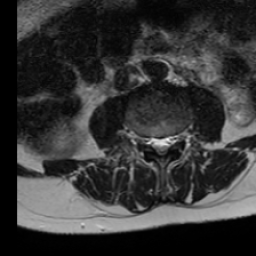CCS_normal: (158, 128, 166, 164)
LFS_normal: (174, 122, 183, 149)
LLS_normal: (166, 126, 174, 154)
RFS_normal: (141, 127, 149, 152)
RLS_normal: (149, 128, 158, 154)
